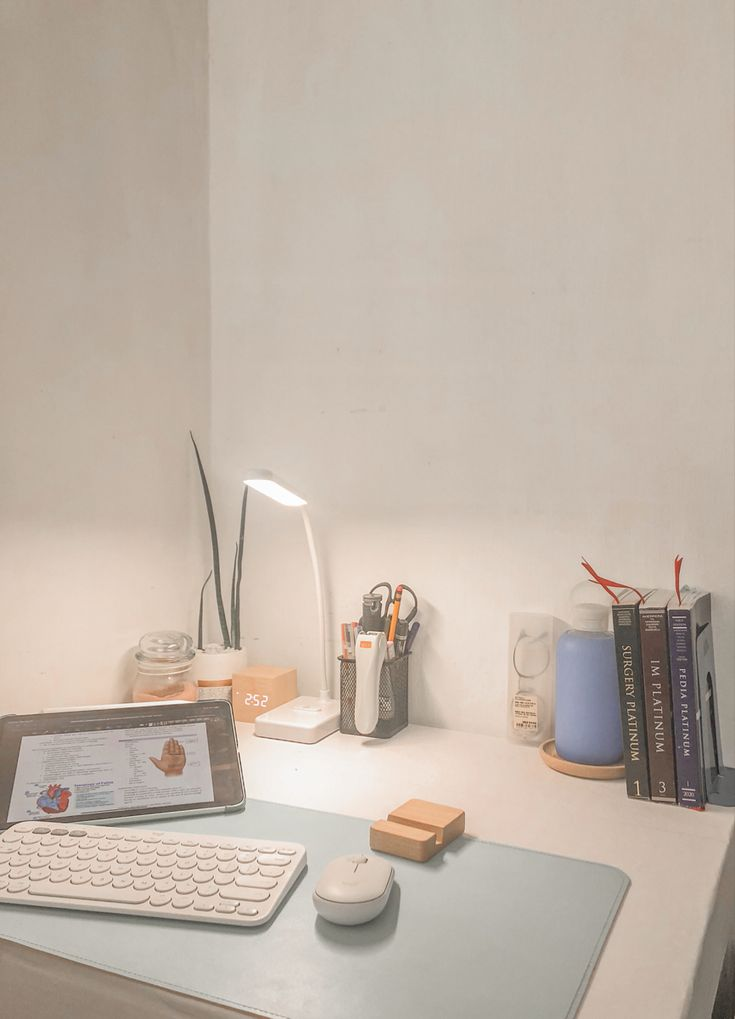not a gesture sign: (75, 38, 726, 477)
